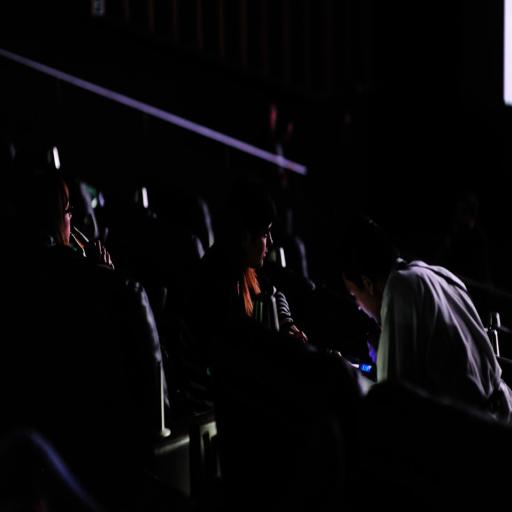face: (36, 180, 76, 242), (242, 223, 273, 268)
